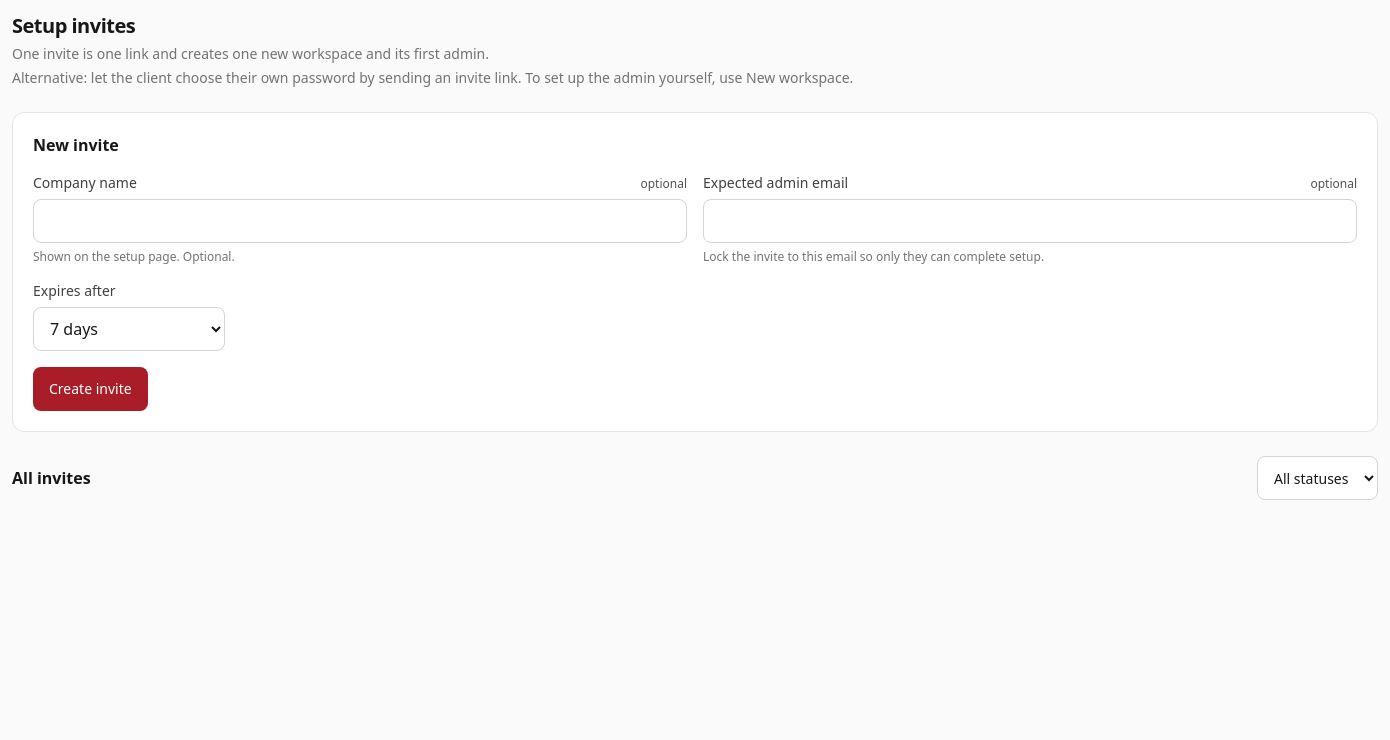
one-time invite card › clears the code from the page, storage and the query cache when the card is closed
The image size is (1390, 740).
In the field labelled "Company name optional": (360, 221) [33,199,687,243], type "Acme Quarry"
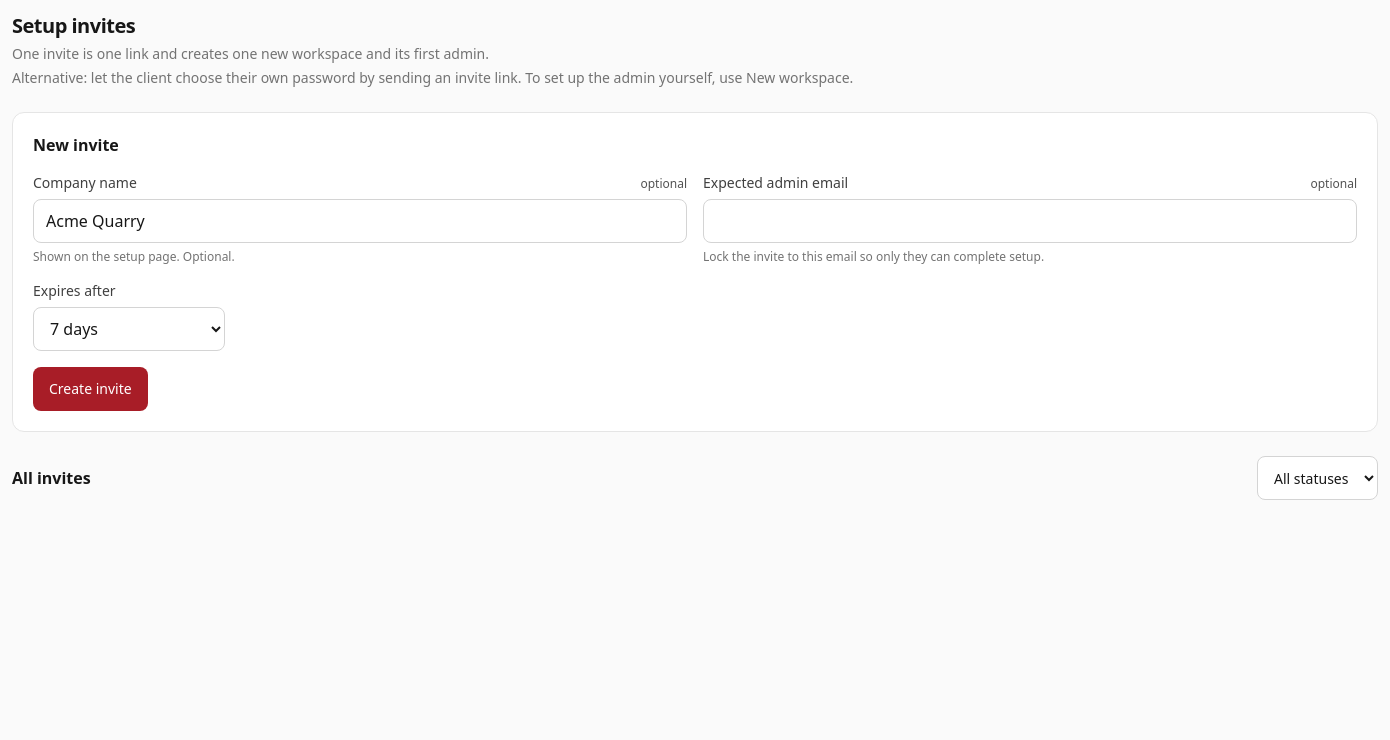
Click the button "Create invite": click(90, 389) [33,367,148,411]
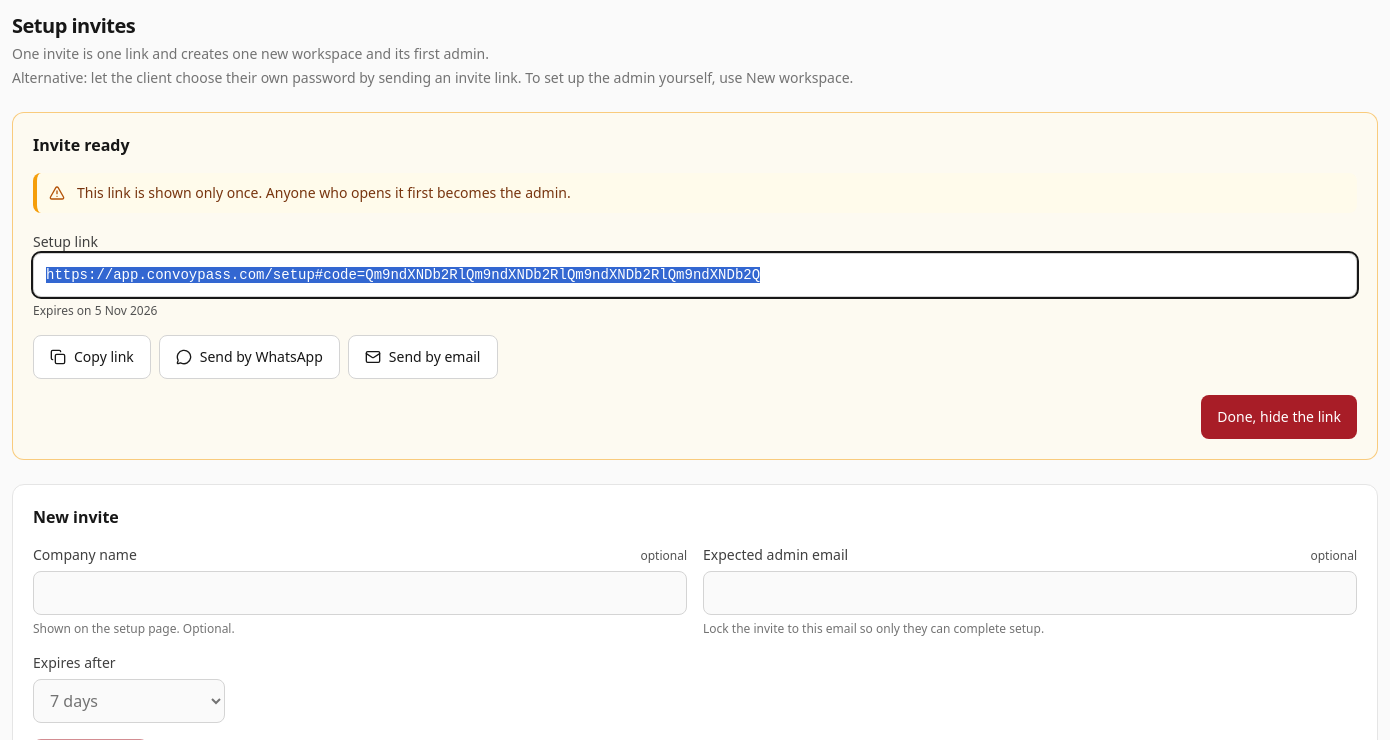
Check: the field labelled "Setup link" is shown, box [33,253,1357,297]
Click the button "Done, hide the link": click(1279, 417) [1201,395,1357,439]
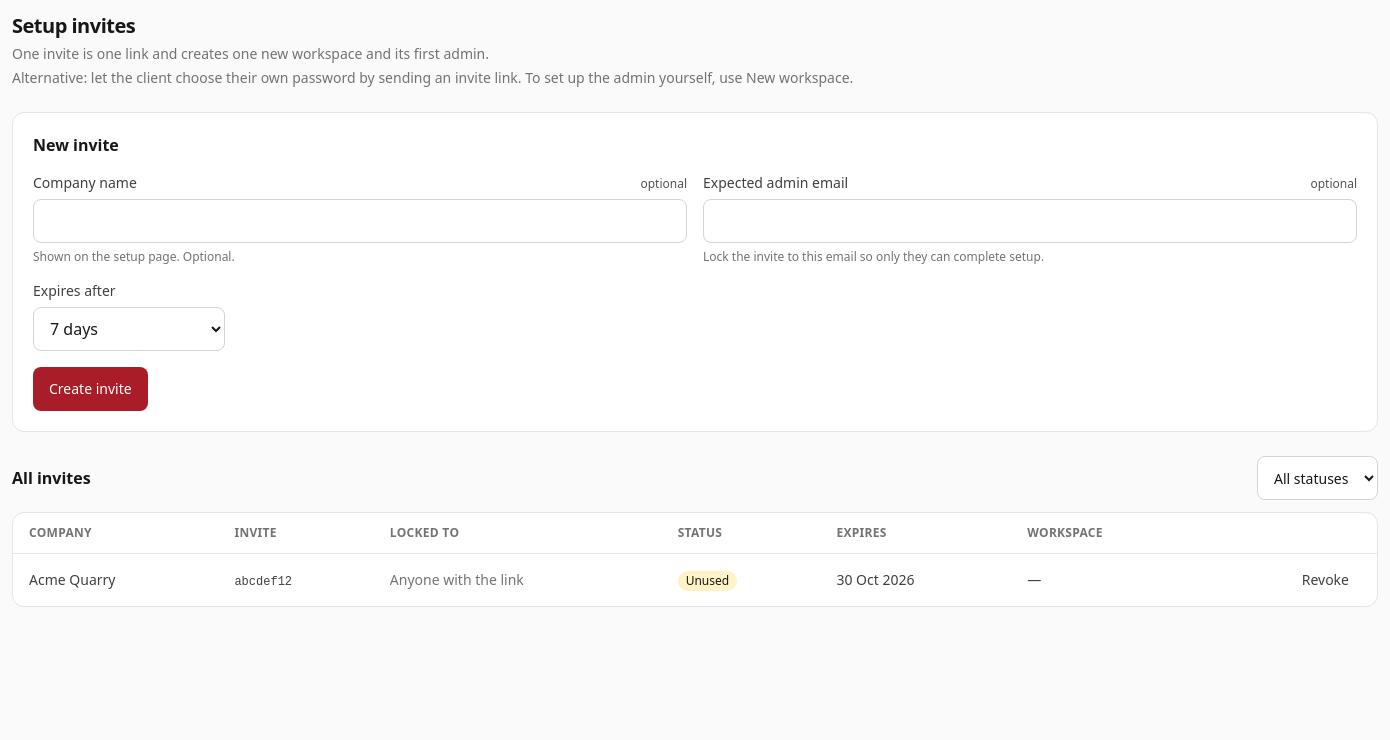
Check: the label labelled "Setup link" is gone
Check: the button "Create invite" is enabled, box [33,367,148,411]
